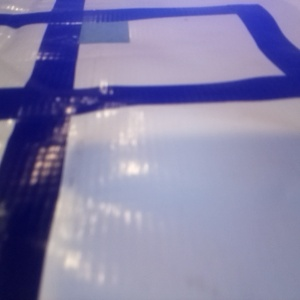bottom_right: (15, 65, 126, 115)
top_right: (122, 43, 208, 70)
